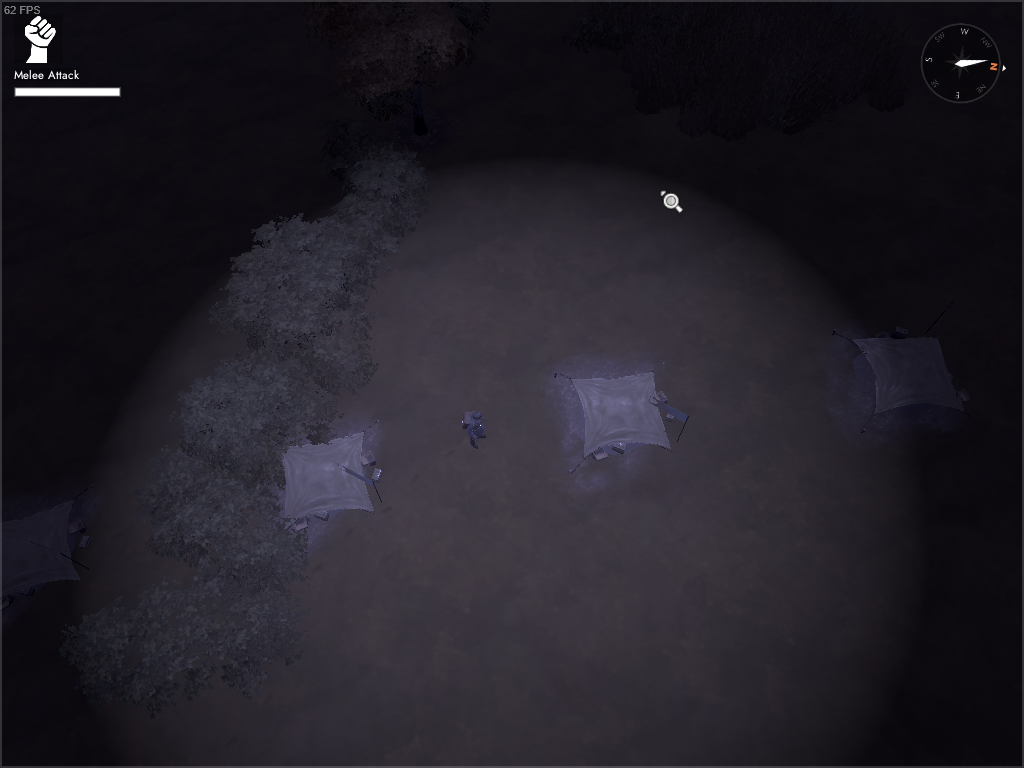foxhole: (237, 410, 396, 552), (829, 314, 984, 446), (543, 354, 695, 478), (1, 488, 101, 613)
player: (456, 403, 494, 454)
